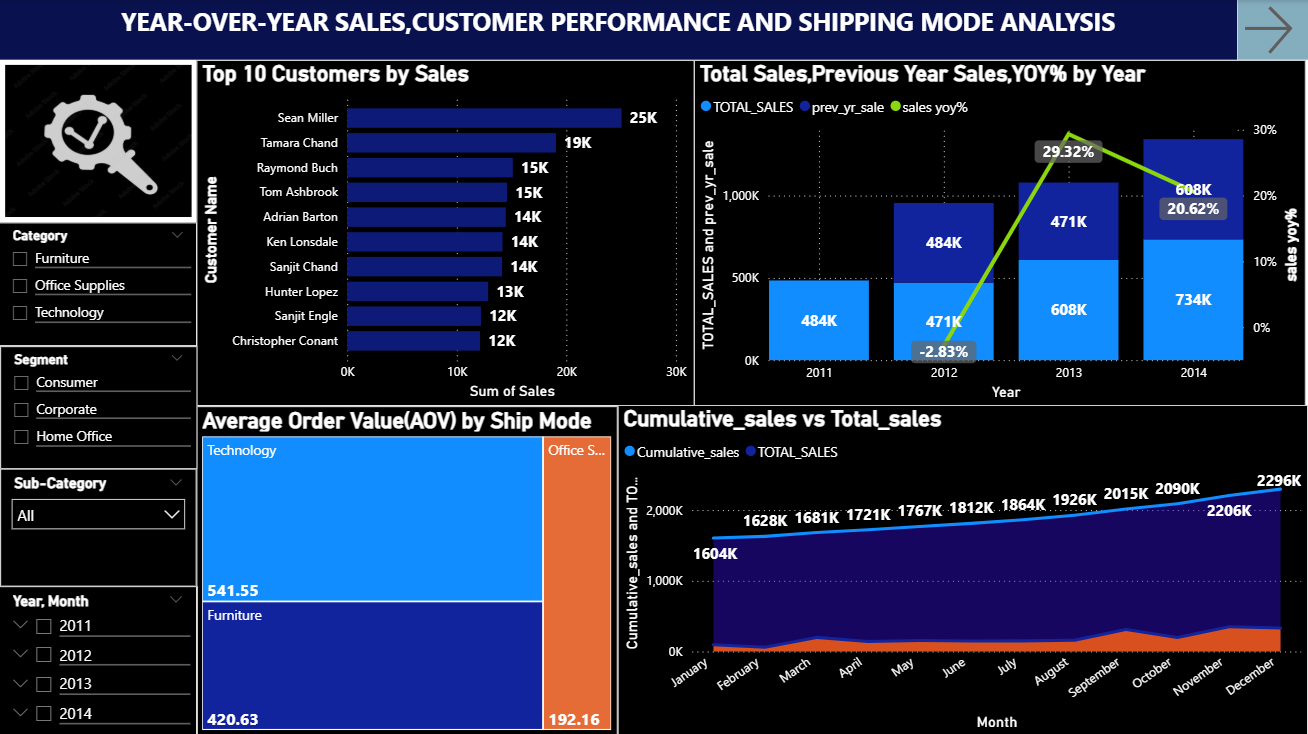

The dashboard page shown, as its layout file describes it:
{"tool":"powerbi","page":{"name":"Customer_performance","canvas":[1280,720],"ordinal":2},"visuals":[{"type":"barChart","title":"Top 10 Customers by Sales","fields":{"Category":["Orders.Customer Name"],"Y":["Orders.Sales"]},"box":[192.9,58.6,487.1,338.6],"z":0},{"type":"lineStackedColumnComboChart","title":"Total Sales,Previous Year Sales,YOY% by Year","fields":{"Category":["Date_table.Year"],"Y":["Orders.TOTAL_SALES","Orders.prev_yr_sale"],"Y2":["Orders.sales yoy%"]},"box":[680,58.6,598.6,338.6],"z":1000},{"type":"areaChart","title":"Cumulative_sales vs  Total_sales","fields":{"Category":["Date_table.Month"],"Y":["Orders.Cumulative_sales","Orders.TOTAL_SALES"]},"box":[605.3,396.2,675,324.1],"z":2000},{"type":"treemap","title":"Average Order Value(AOV) by Ship Mode","fields":{"Values":["Orders.AOV"],"Group":["Orders.Category"]},"box":[193.2,397.4,412.1,322.8],"z":3000},{"type":"textbox","box":[0,0,1211.2,58.8],"z":4000},{"type":"slicer","fields":{"Values":["Orders.Category"]},"box":[0,218.1,193.9,121.2],"z":5000},{"type":"slicer","fields":{"Values":["Orders.Segment"]},"box":[1.4,339.2,192.4,119.7],"z":6000},{"type":"slicer","fields":{"Values":["Orders.Sub-Category"]},"box":[1.2,458.6,192,114.9],"z":7000},{"type":"image","box":[1.2,58.8,192.5,158.8],"z":8000},{"type":"actionButton","box":[1211.2,0,68.8,58.8],"z":9000},{"type":"slicer","fields":{"Values":["Date_table.Date"]},"box":[2.4,573.5,192,146.7],"z":10000},{"type":"slicer","fields":{"Values":["Date_table.Year","Date_table.Month"]},"box":[0,573.5,193.2,146.7],"z":11000}]}

Visuals, with their boxes in screenshot pixels (x1, y1, x2, y2), scaled from the page's 1280x720 canvas onto the 1308x734 screenshot:
"Top 10 Customers by Sales" barChart: <region>197, 60, 695, 405</region>
"Total Sales,Previous Year Sales,YOY% by Year" lineStackedColumnComboChart: <region>695, 60, 1307, 405</region>
"Cumulative_sales vs  Total_sales" areaChart: <region>619, 404, 1307, 733</region>
"Average Order Value(AOV) by Ship Mode" treemap: <region>197, 405, 619, 733</region>
textbox: <region>0, 0, 1238, 60</region>
slicer - Orders.Category: <region>0, 222, 198, 346</region>
slicer - Orders.Segment: <region>1, 346, 198, 468</region>
slicer - Orders.Sub-Category: <region>1, 468, 197, 585</region>
image: <region>1, 60, 198, 222</region>
actionButton: <region>1238, 0, 1307, 60</region>
slicer - Date_table.Date: <region>2, 585, 199, 733</region>
slicer - Date_table.Year x Date_table.Month: <region>0, 585, 197, 733</region>
